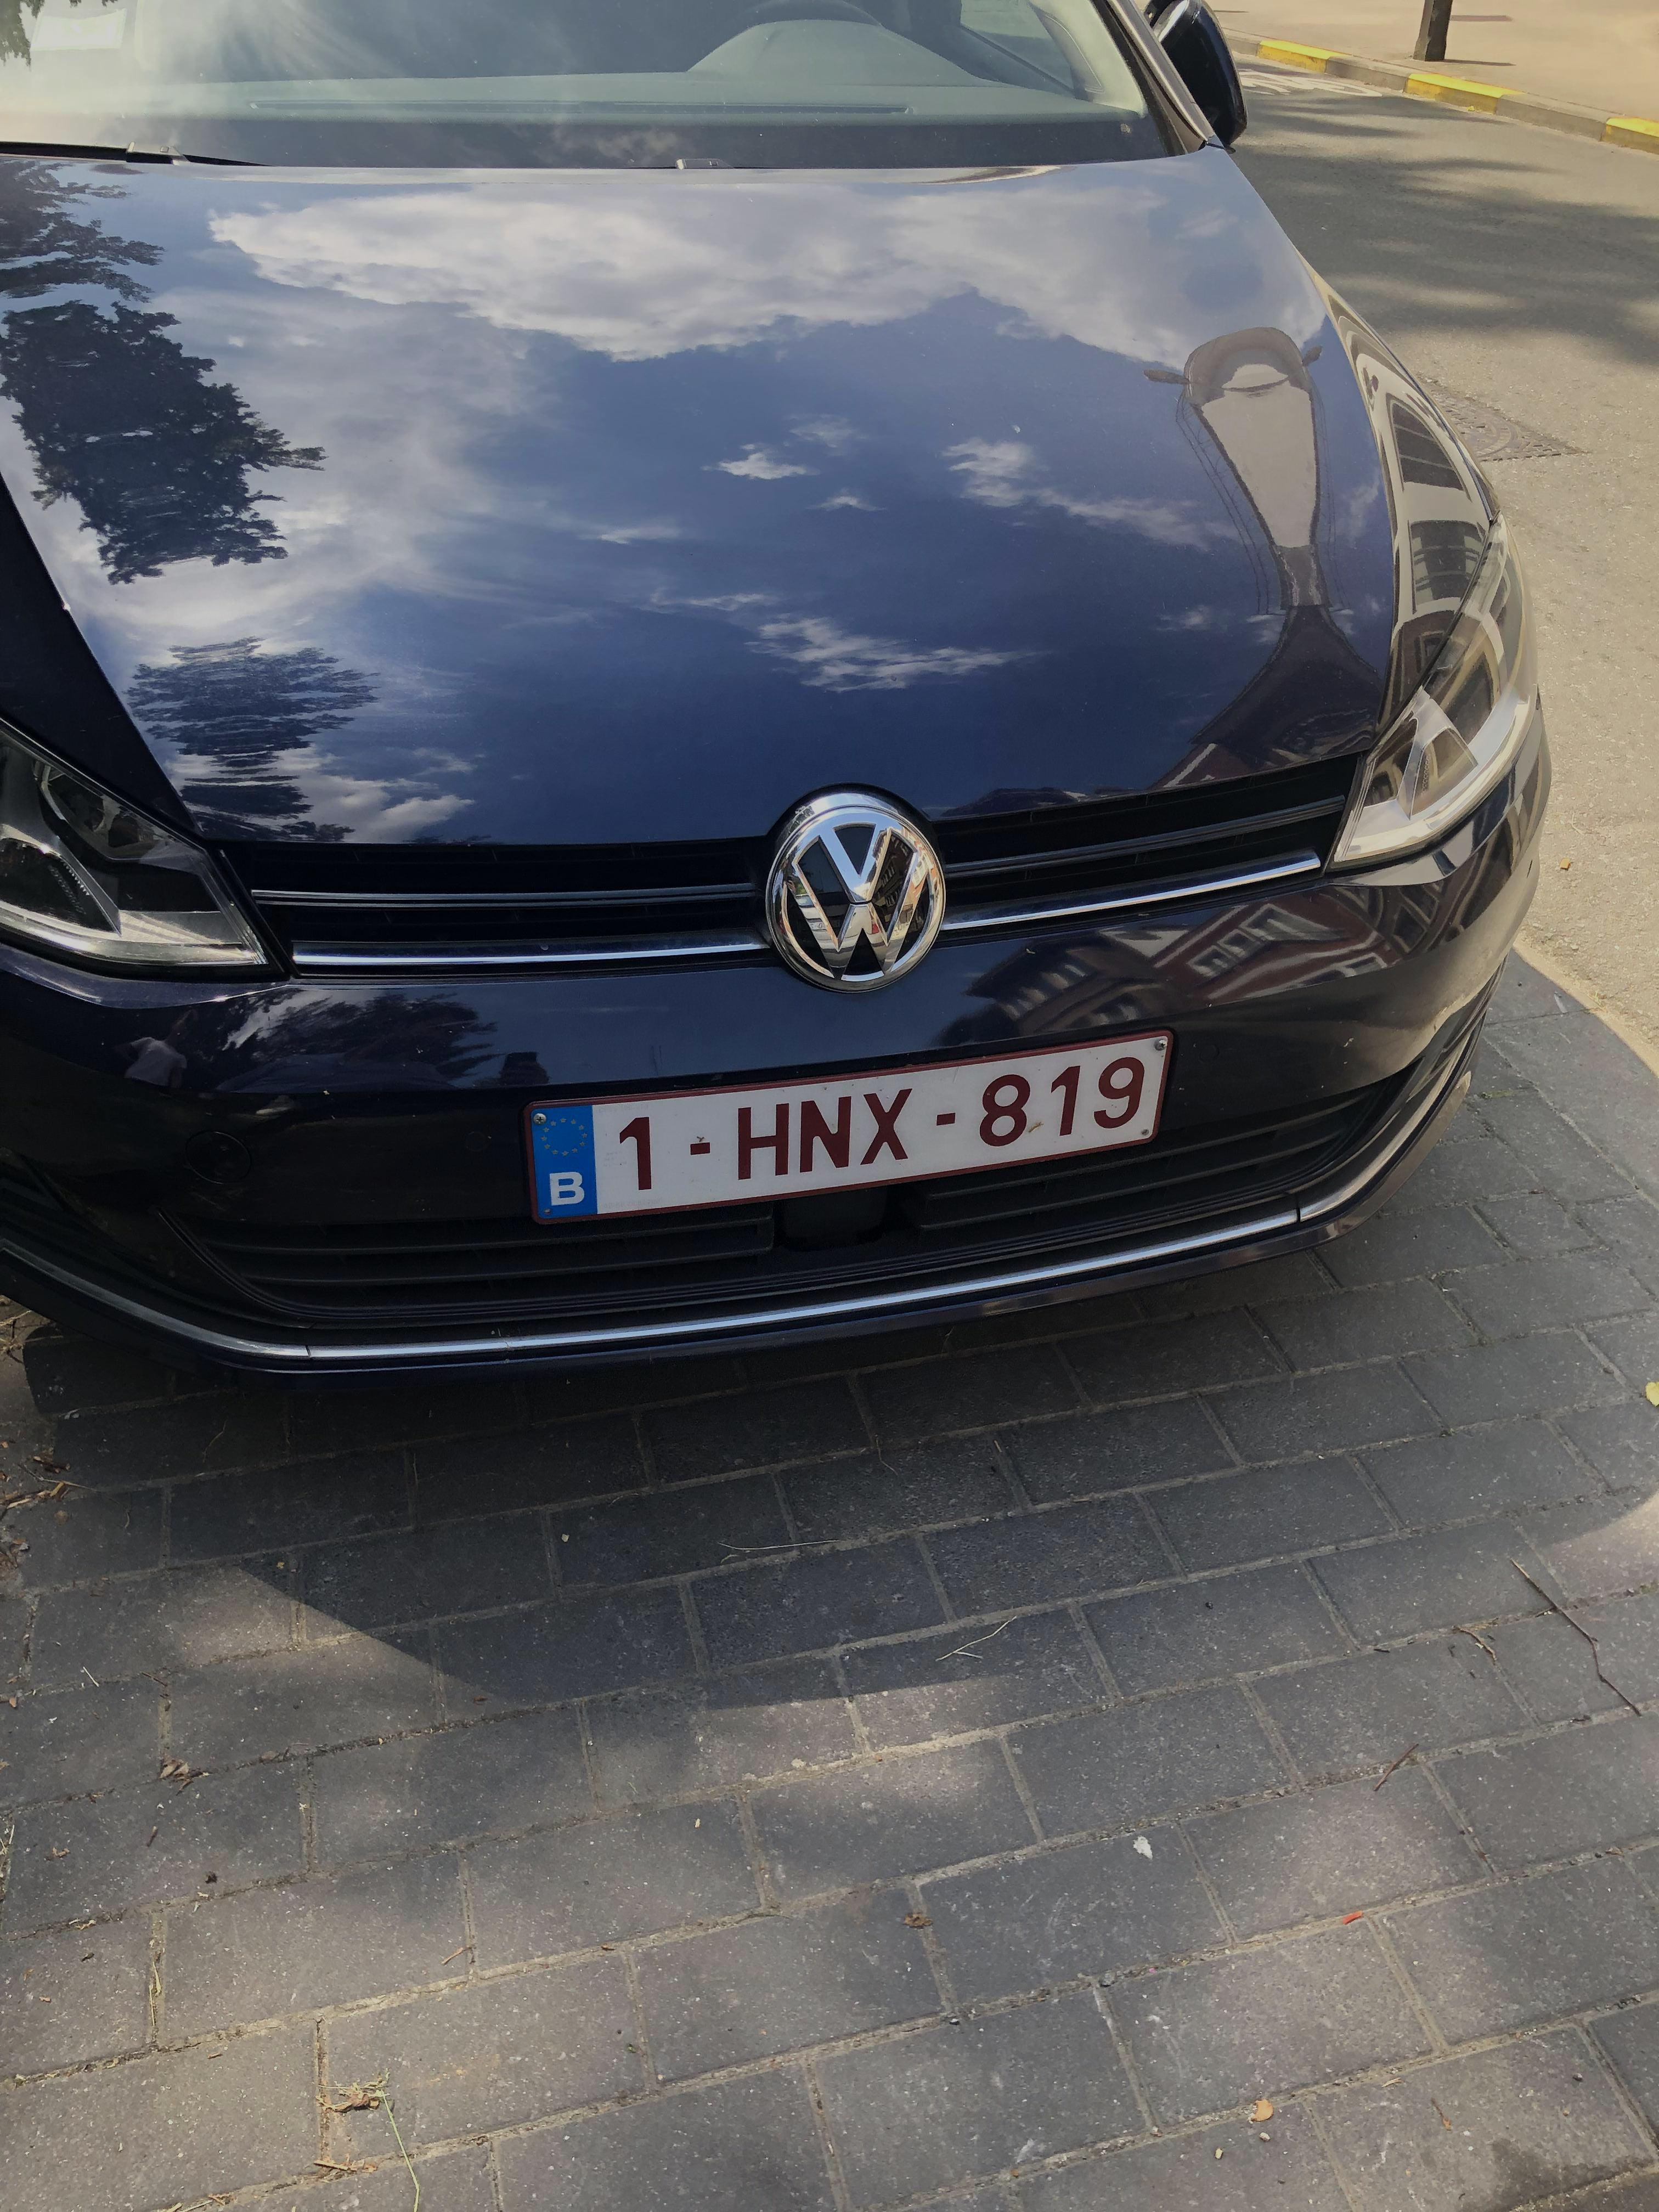plate: (510, 1011, 1192, 1246)
